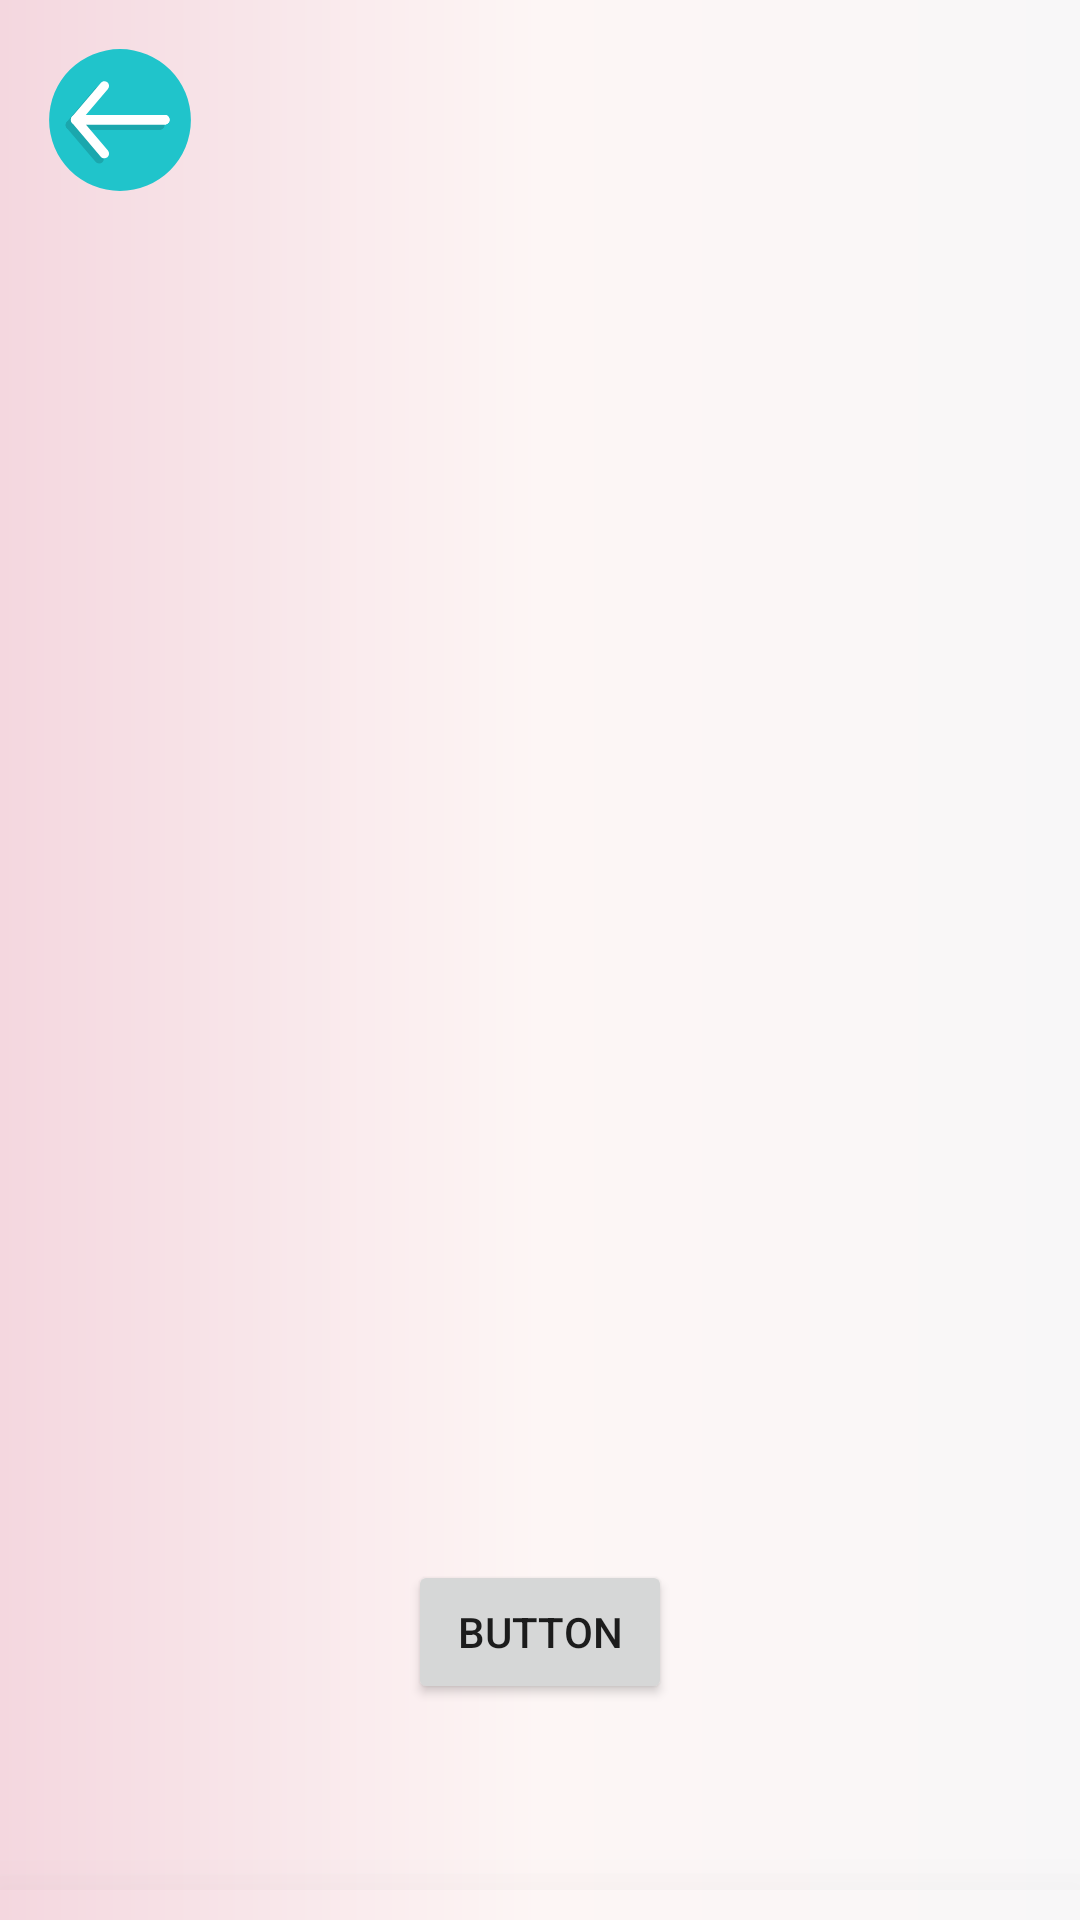

Point at icon controls on the screen. Image size 1080px x 1920px, points as point (x, y).
backarrow: point (120, 120)
